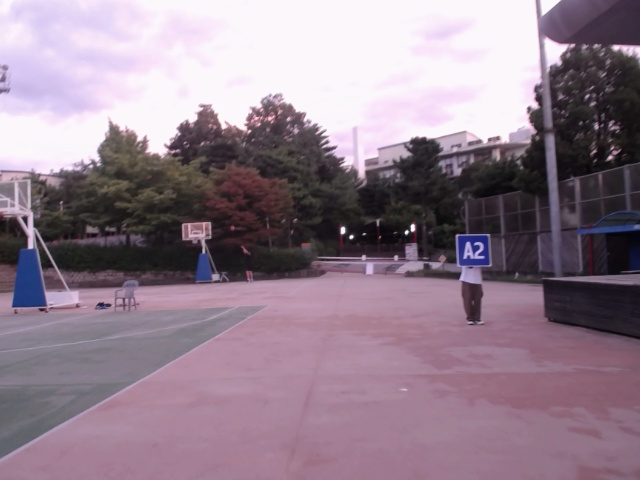delivery_a2: (456, 234, 491, 266)
